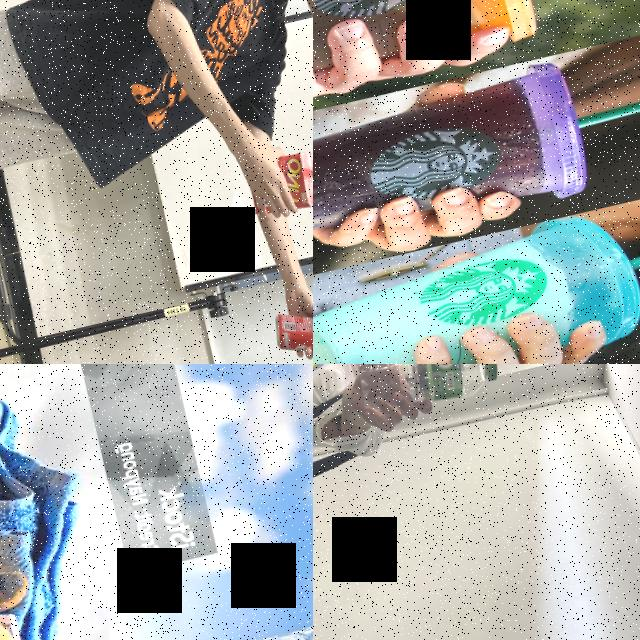bottle: (353, 364, 505, 422)
can: (267, 298, 313, 364)
cup: (313, 57, 593, 264), (313, 204, 640, 364), (313, 0, 540, 109)
